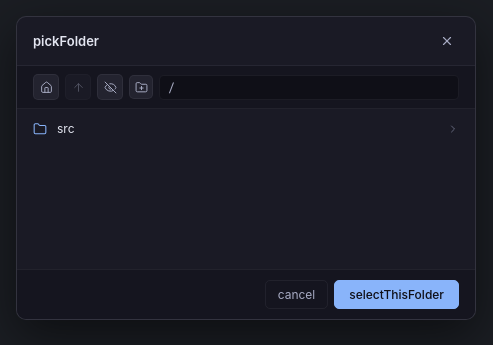
Test case: LocalFolderPicker 숨김 폴더 › 토글을 누르면 보여주고, 다시 누르면 감춘다
Expected: the text "src" is shown, [57,121,74,136]
Click the button titled "showHidden" at (110,87), box [97,74,123,100]
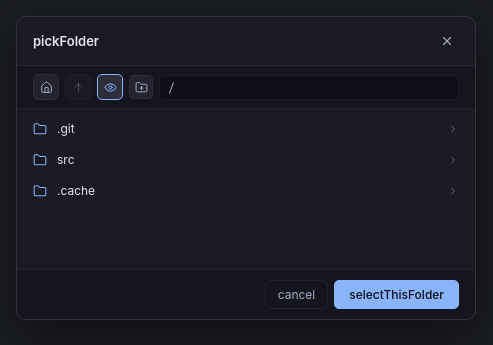
Expected: the text ".git" is shown, [57,121,75,136]
Click the button titled "hideHidden" at (110,87), box [97,74,123,100]
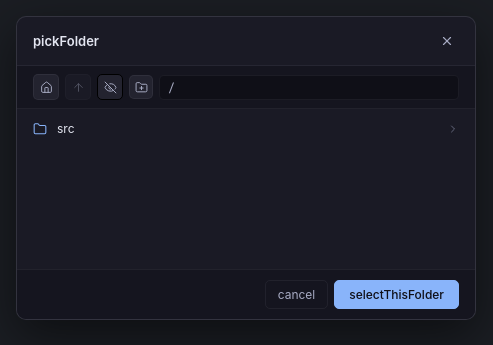
Expected: the button ".git" is gone
